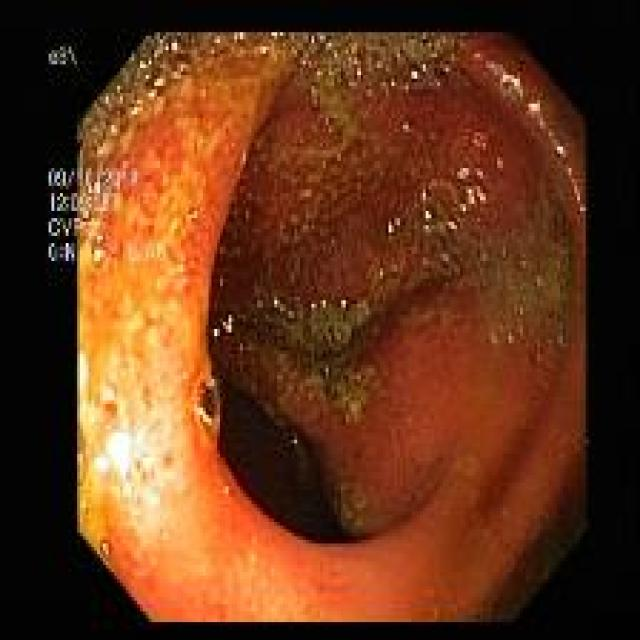ulcerative-colitis: (80, 31, 585, 621)
